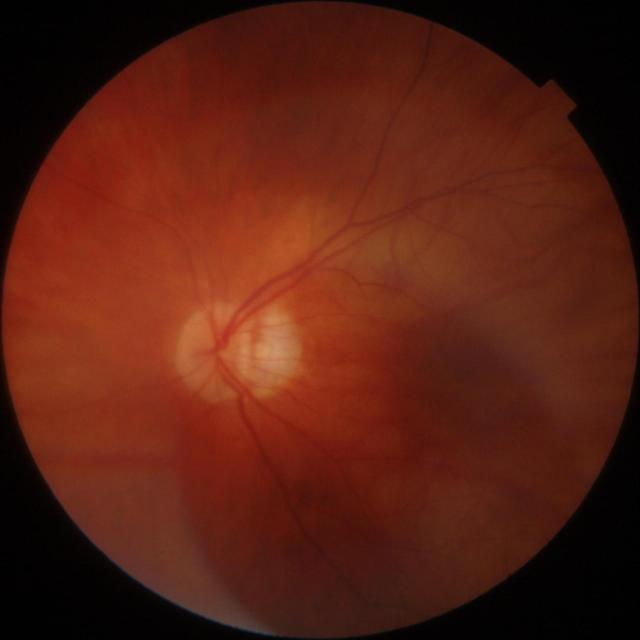OD: (178, 308, 256, 402)
